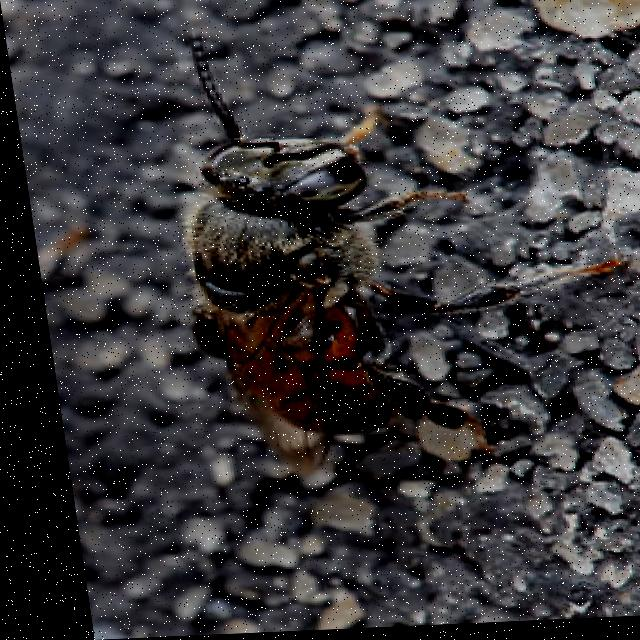Lasioglossum: (126, 15, 503, 462)
